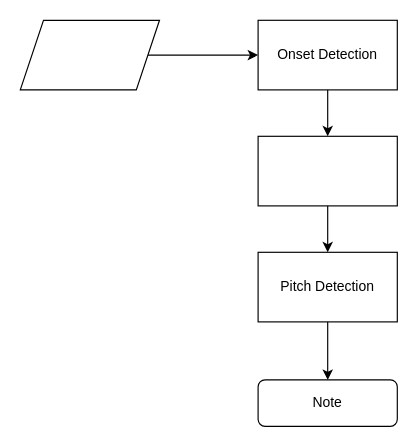
This 418x447 diagram has some shape labels left out. The centre of each missing label's shape, as x and y in pixels:
"Audio" goes at [89,54].
"Peak-Picking" goes at [327,170].
